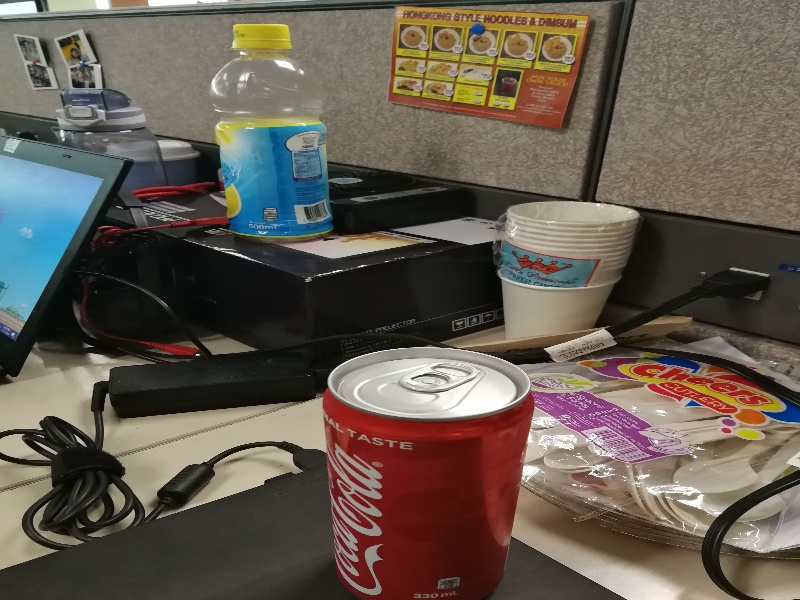PET #1: (209, 17, 341, 247)
